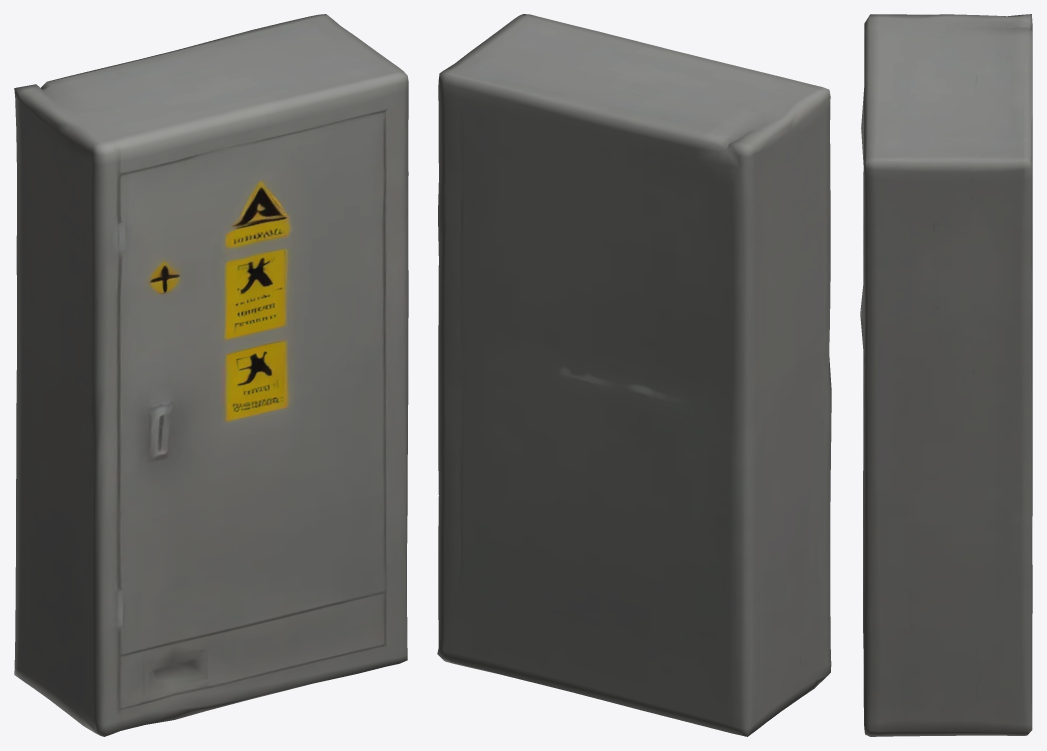
Rendered from electric_cabinet.glb.
3 renders of one model, left to right at view 1: azimuth 30°, elevation 25°; view 2: azimuth 150°, elevation 25°; view 3: azimuth 270°, elevation 25°, orthographic. The views are drawn at different scales.
Visible parts, largest first — view 1: electric_cabinet; view 2: electric_cabinet; view 3: electric_cabinet.
Boxes of the visible parts, bbox=[...] form: electric_cabinet: bbox=[14, 14, 408, 736]; electric_cabinet: bbox=[437, 14, 831, 736]; electric_cabinet: bbox=[860, 14, 1032, 736].
Size of the model in its own units: 1.02 by 1.85 by 0.5001.
Materials: 1 (1 with a texture image).
